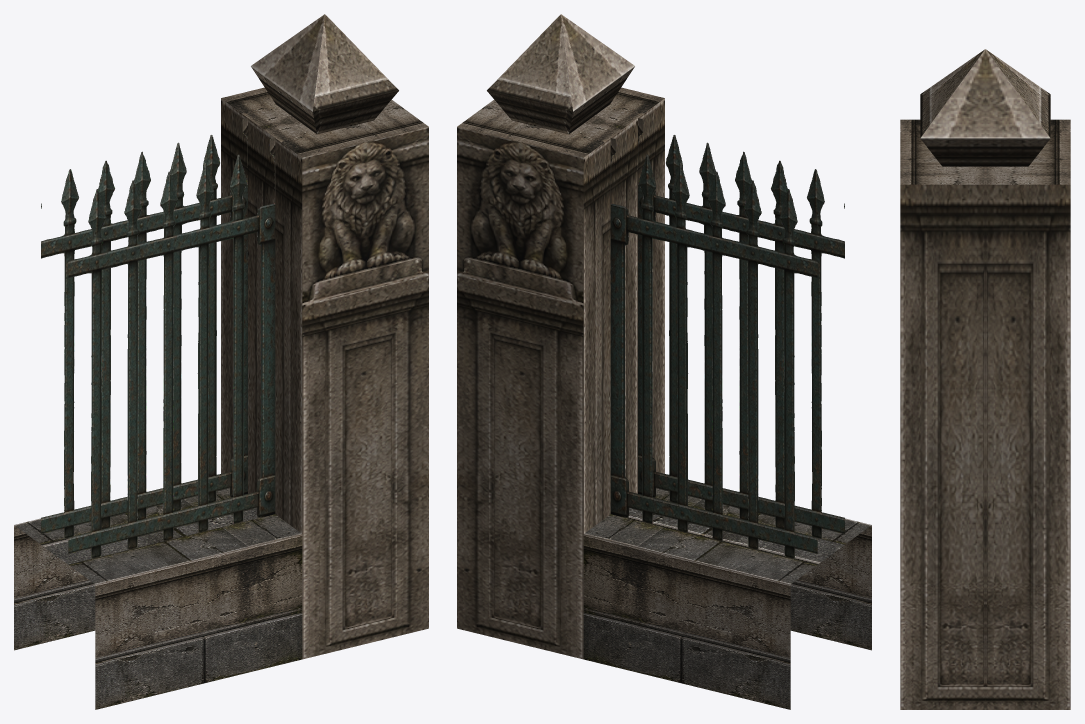
Rendered from ParkWallTiny.fbx.
3 renders of one model, left to right at view 1: azimuth 30°, elevation 25°; view 2: azimuth 150°, elevation 25°; view 3: azimuth 270°, elevation 25°, orthographic. The views are drawn at different scales.
Visible parts, largest first — view 1: ConcreteFence; view 2: ConcreteFence; view 3: ConcreteFence.
Part boxes in pixels (x1,y1,x2,y2): ConcreteFence: (14, 14, 428, 709); ConcreteFence: (457, 14, 871, 709); ConcreteFence: (900, 49, 1070, 709).
Bounding box in the file's own units: 0.7915 × 1.36 × 0.3342.
1 material, 1 textured.
